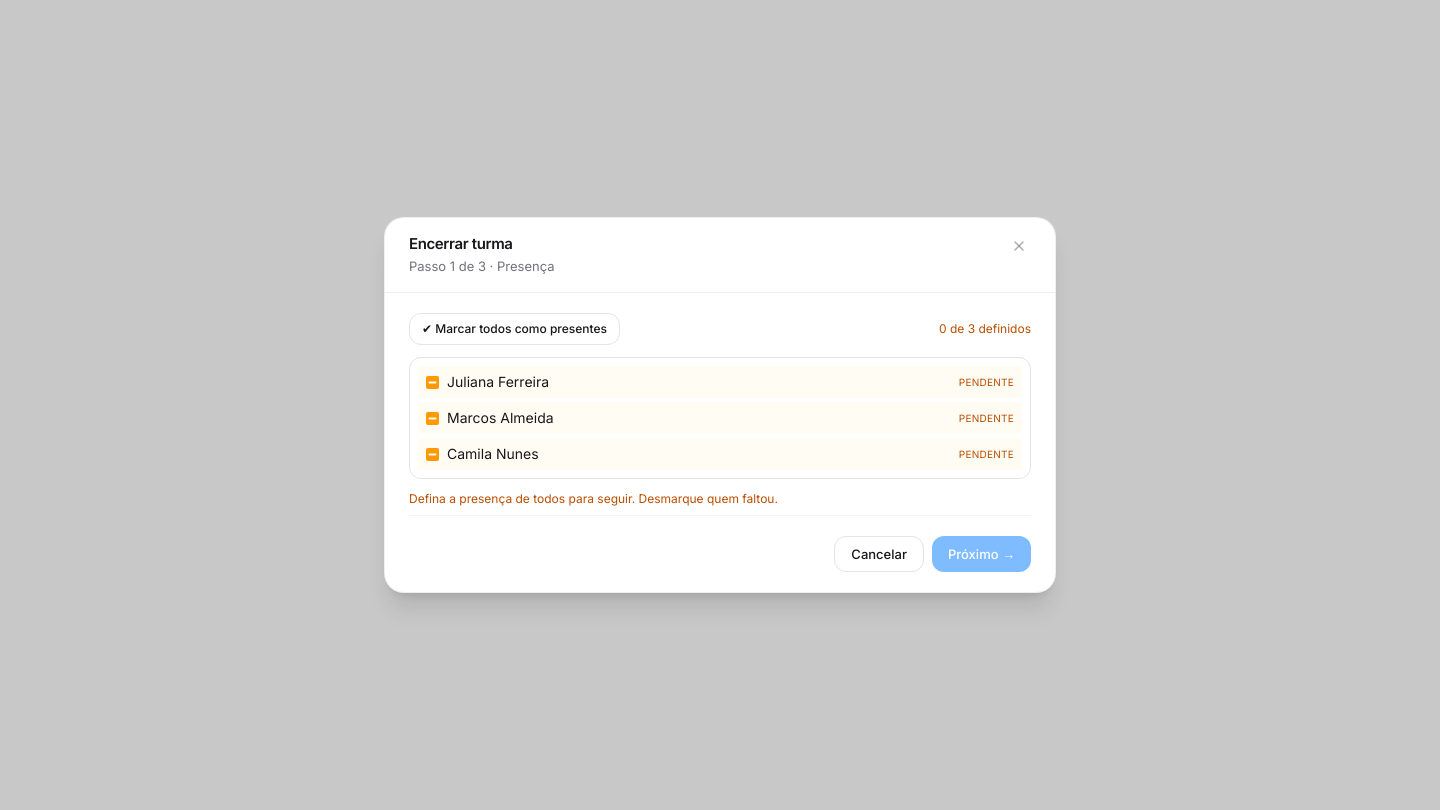
Test: Assistente de encerramento de turma › desmarcar individualmente deixa a pessoa como faltou, sem travar
Step 1. Click the button "✔ Marcar todos como presentes" → click(514, 329), box [409,313,620,345]
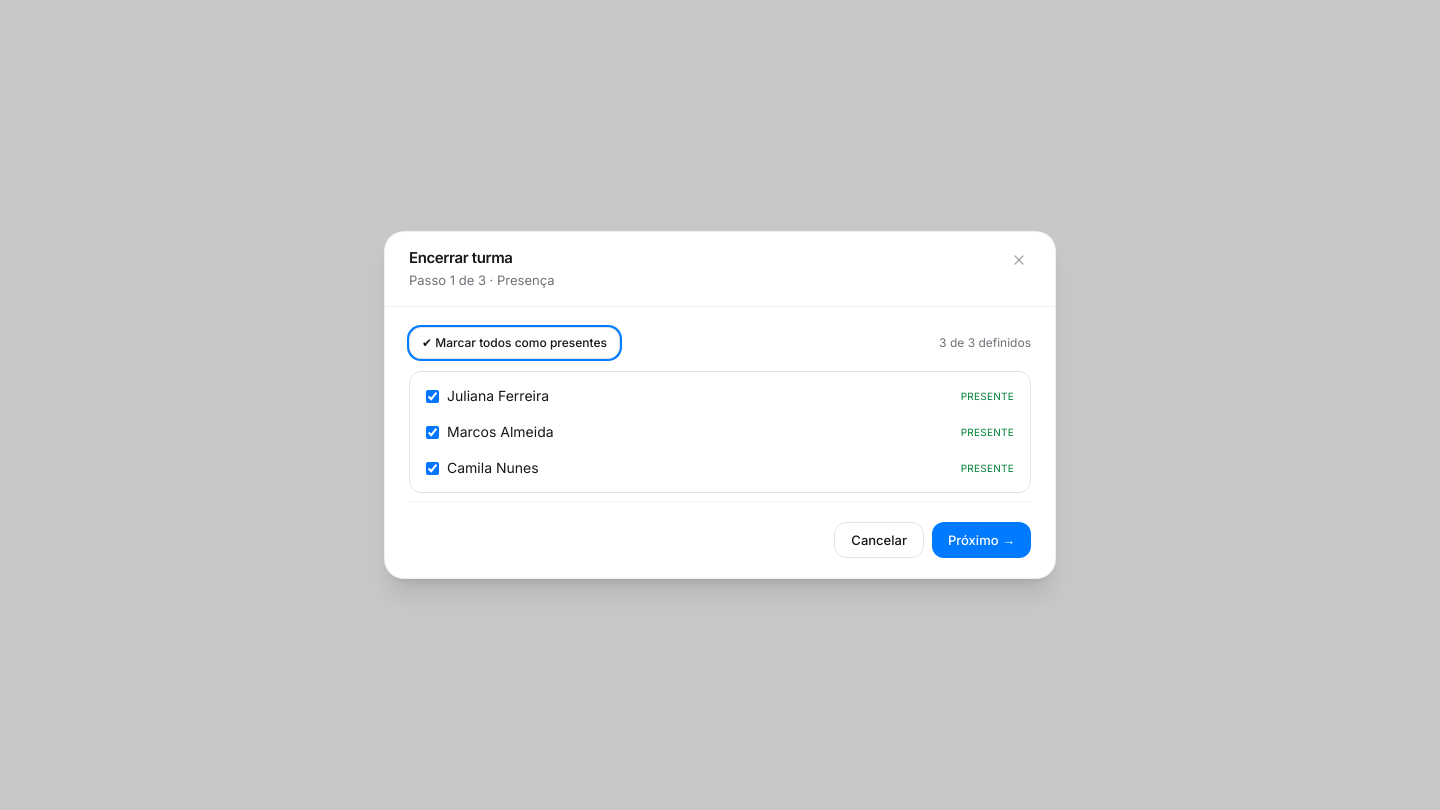
Step 2. Click the checkbox labelled "Camila Nunes Presente" → click(432, 468), box [426,462,439,475]
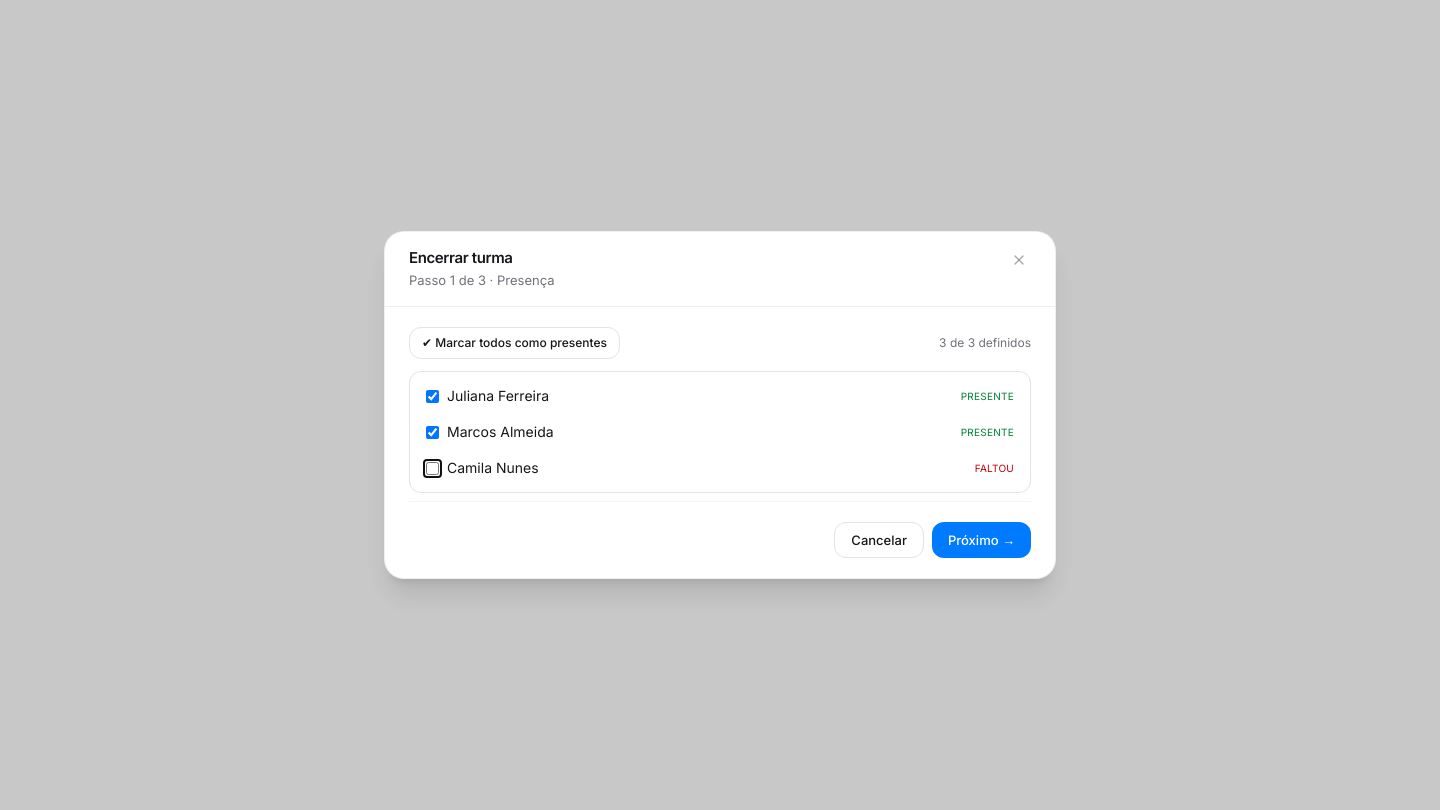
Check: the text "3 de 3 definidos" is shown, box [939,335,1031,351]
Check: the button "Próximo →" is enabled, box [932,522,1031,558]
Check: the text "Faltou" is shown, box [975,461,1014,475]
